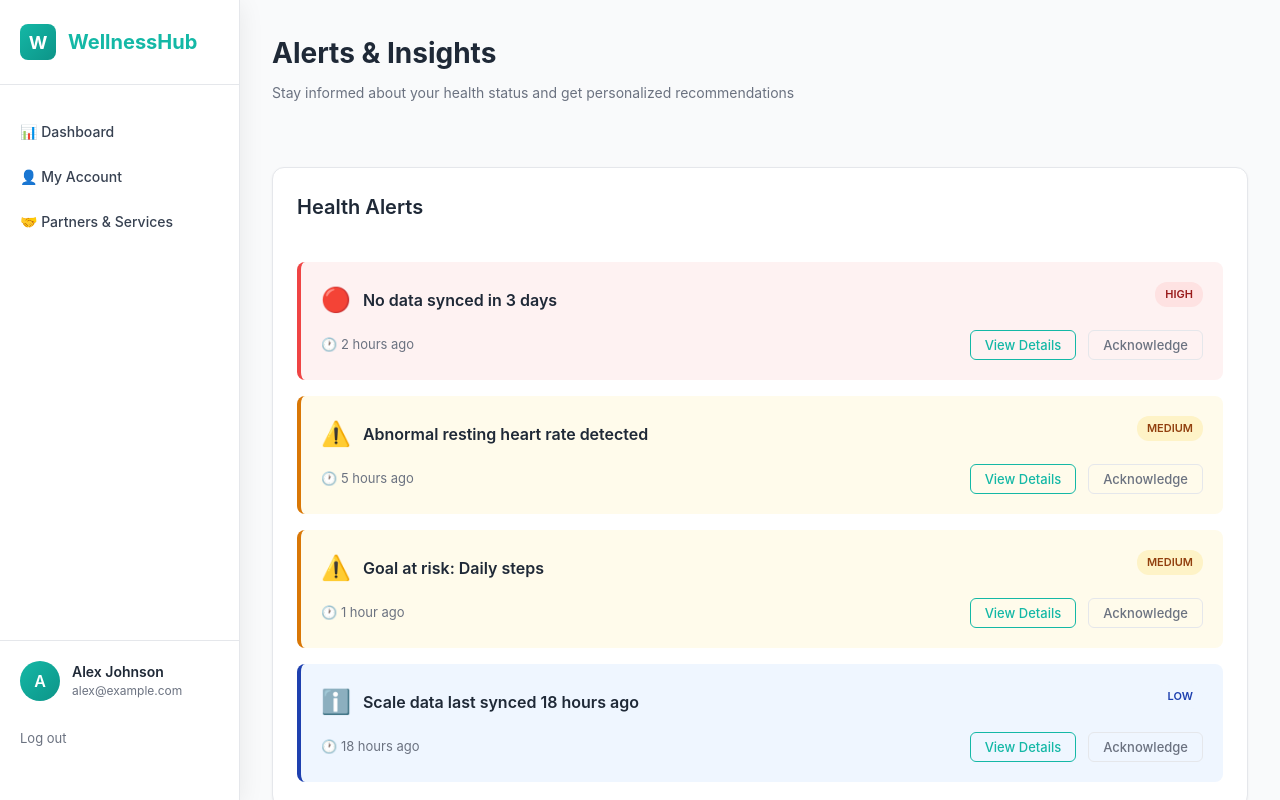
it: clicking Acknowledge removes the card from the list
Expected: the heading "Health Alerts" is shown, x1=297 y1=195 x2=423 y2=219
Click the button "Acknowledge" in the row of "2 hours ago".
click(1146, 345)  # box x1=1088 y1=330 x2=1203 y2=360
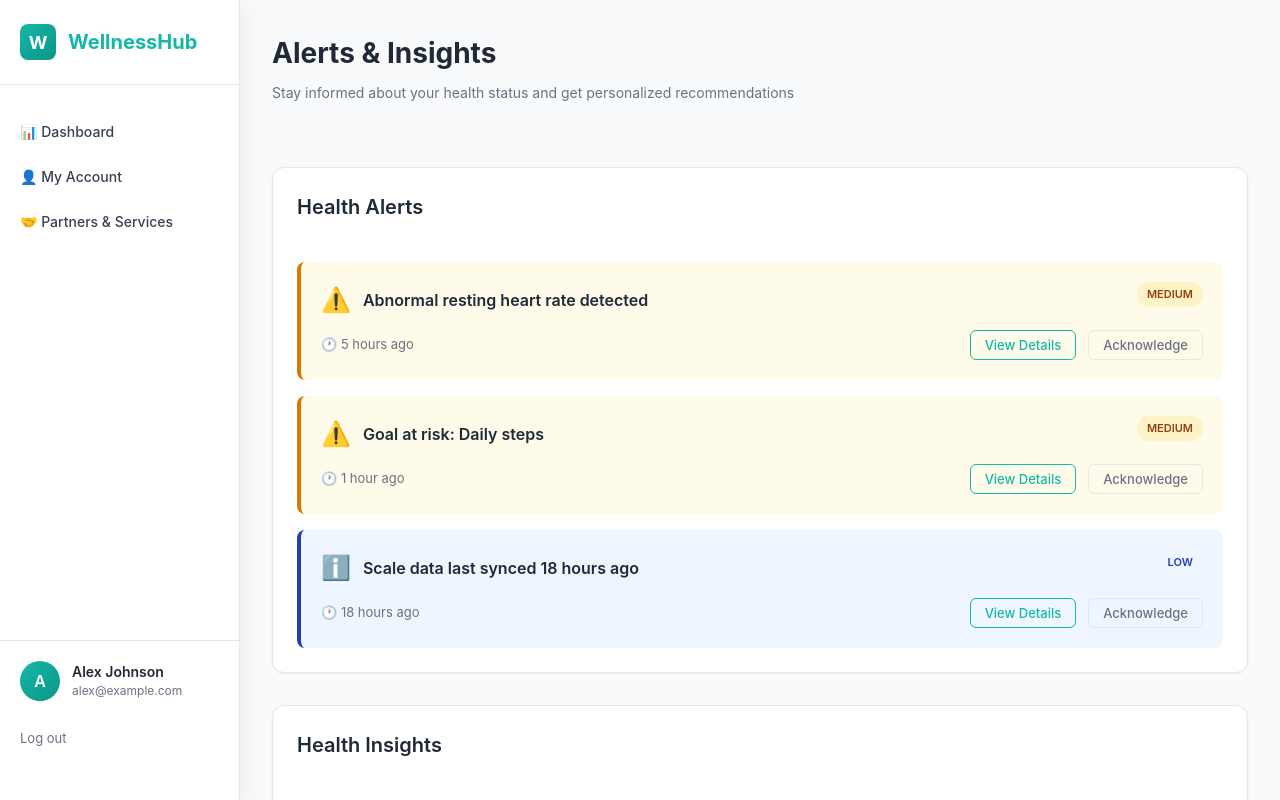
Result: the number of buttons "Acknowledge" is 3 at x1=1088 y1=330 x2=1203 y2=360; x1=1088 y1=464 x2=1203 y2=494; x1=1088 y1=598 x2=1203 y2=628
